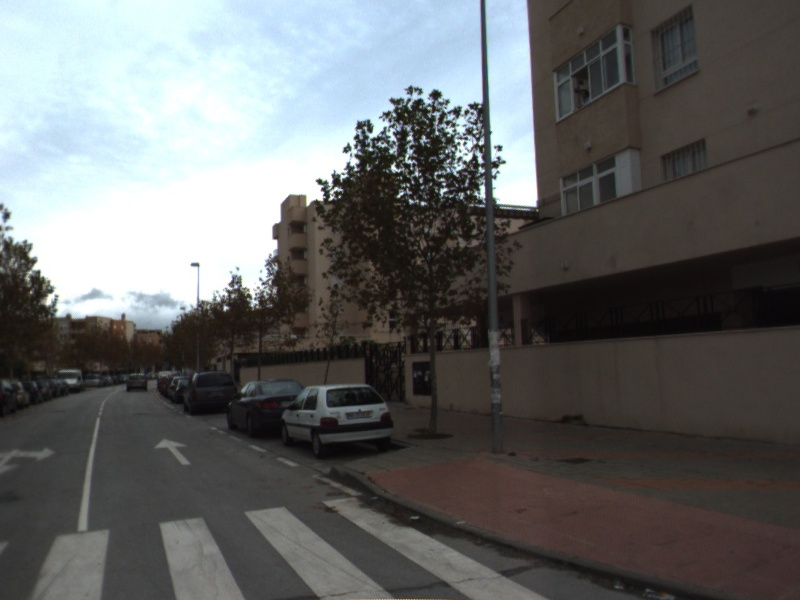STRAIGHT: (152, 437, 193, 467)
